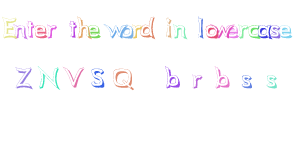E: (1, 16, 19, 39)
N: (38, 66, 59, 89)
Q: (112, 68, 135, 91)
V: (64, 67, 84, 88)
Z: (15, 66, 33, 89)
a: (258, 24, 272, 38)
b: (214, 65, 231, 89), (165, 65, 181, 89)
c: (248, 23, 259, 39)
d: (140, 16, 155, 38)
e: (277, 24, 293, 39), (34, 23, 46, 38), (88, 24, 100, 39), (226, 24, 238, 39)
h: (79, 17, 91, 38)
i: (164, 17, 173, 39)
l: (196, 14, 204, 38)
n: (14, 23, 27, 39), (174, 23, 187, 39)
o: (205, 23, 219, 39), (120, 24, 133, 38)
r: (192, 73, 203, 90), (46, 23, 57, 39), (238, 23, 248, 39), (132, 24, 141, 38)
s: (90, 67, 106, 88), (240, 74, 253, 89), (266, 73, 278, 88), (270, 24, 280, 39)
t: (68, 18, 77, 39), (26, 18, 34, 38)
w: (104, 23, 126, 38), (214, 23, 231, 39)
